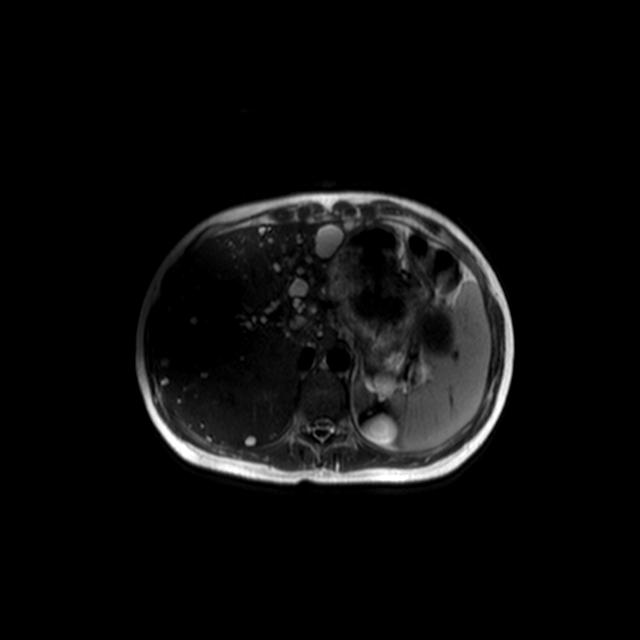sol: (350, 371, 398, 445)
